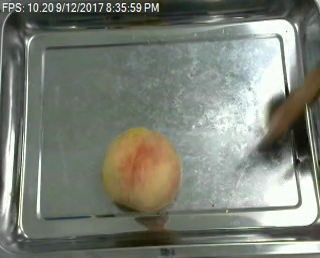Peach: (100, 126, 181, 212)
